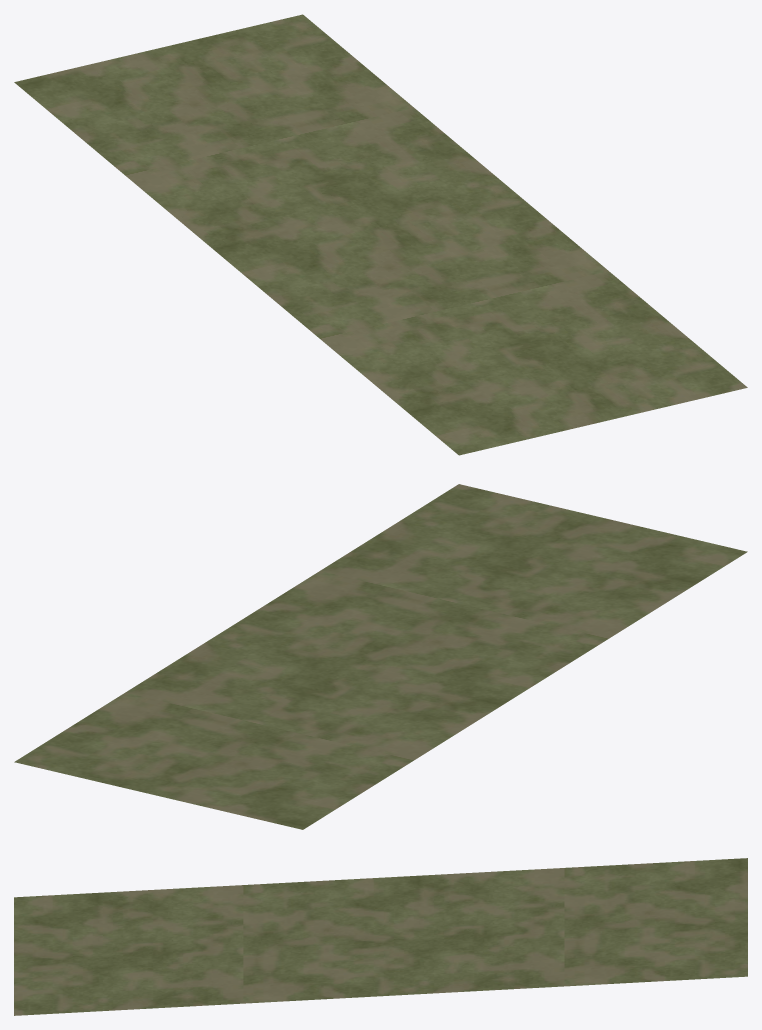
3 renders of one model, top to bottom at view 1: azimuth 30°, elevation 25°; view 2: azimuth 150°, elevation 25°; view 3: azimuth 270°, elevation 25°, orthographic. The views are drawn at different scales.
Size of the model in its own units: 6 by 0.998 by 16.
Materials: 1 (1 with a texture image).
